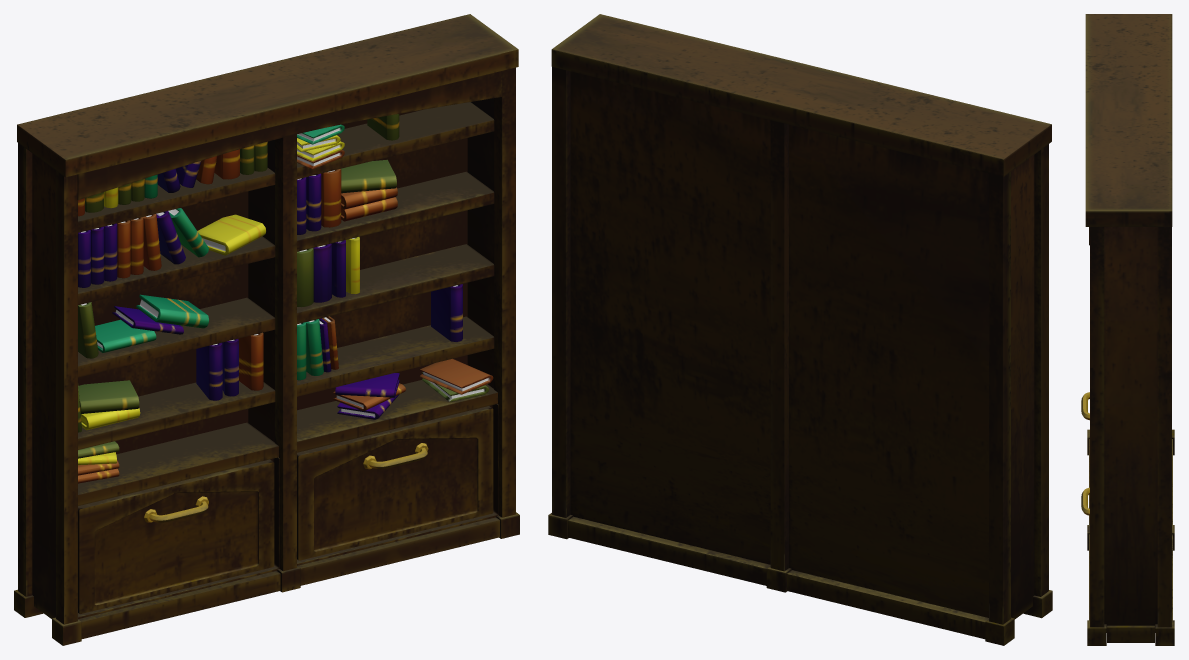
Rendered from Tall_shelf.fbx.
The picture shows the model from 3 angles, left to right: view 1: azimuth 30°, elevation 25°; view 2: azimuth 150°, elevation 25°; view 3: azimuth 270°, elevation 25°; orthographic projection. The views are drawn at different scales.
Visible parts, largest first — view 1: Cube; view 2: Cube; view 3: Cube.
Boxes of the visible parts, x1,y1,x2,y2 form: Cube: (14,14,519,645); Cube: (548,14,1052,645); Cube: (1081,14,1174,645).
Bounding box in the file's own units: 833 × 847 × 165.
